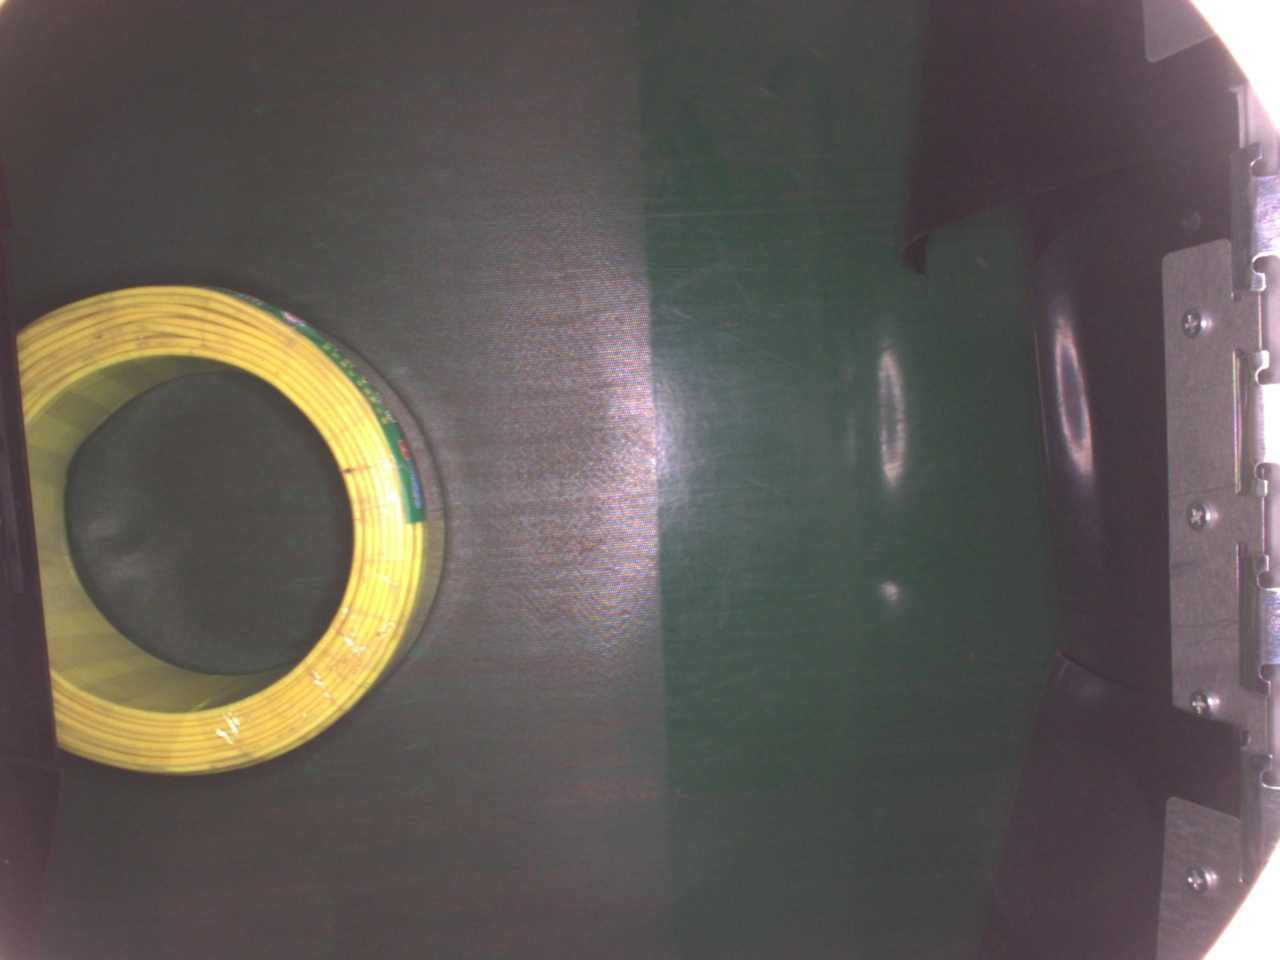yellow: (17, 283, 452, 777)
